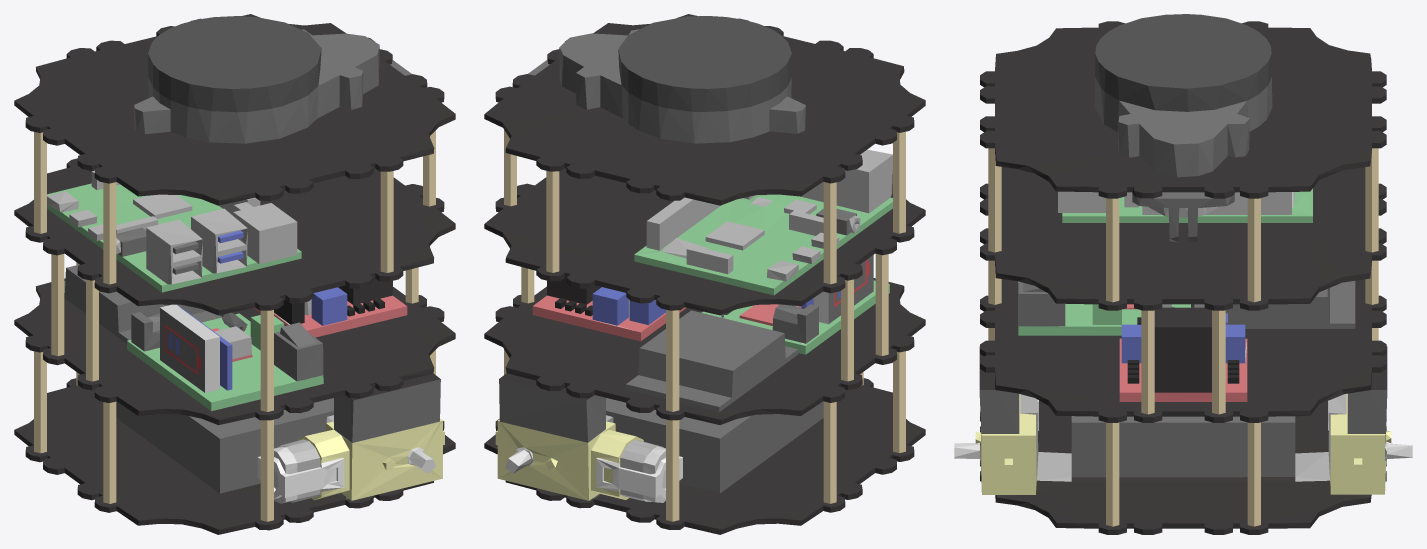
3 renders of one model, left to right at view 1: azimuth 30°, elevation 25°; view 2: azimuth 150°, elevation 25°; view 3: azimuth 270°, elevation 25°, orthographic. The views are drawn at different scales.
Visible parts, largest first — view 1: base_link; view 2: base_link; view 3: base_link.
Boxes of the visible parts, left/top/right/bottom form: base_link: left=14, top=14, right=455, bottom=534; base_link: left=484, top=14, right=925, bottom=534; base_link: left=954, top=14, right=1412, bottom=534.
Size of the model in its own units: 138 by 156 by 162.
